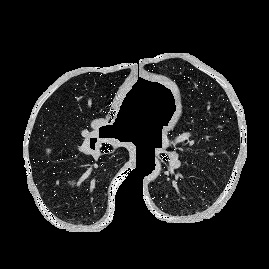PN: (46, 149, 50, 153)
